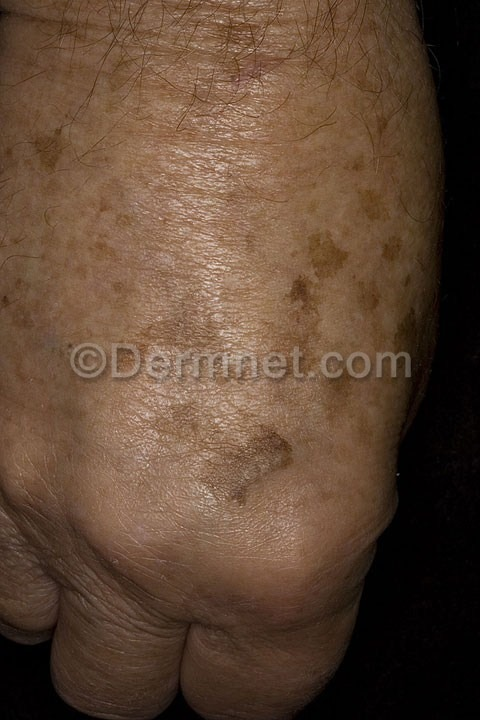Melasma: (6, 8, 314, 229), (126, 193, 399, 339), (111, 386, 317, 529)
